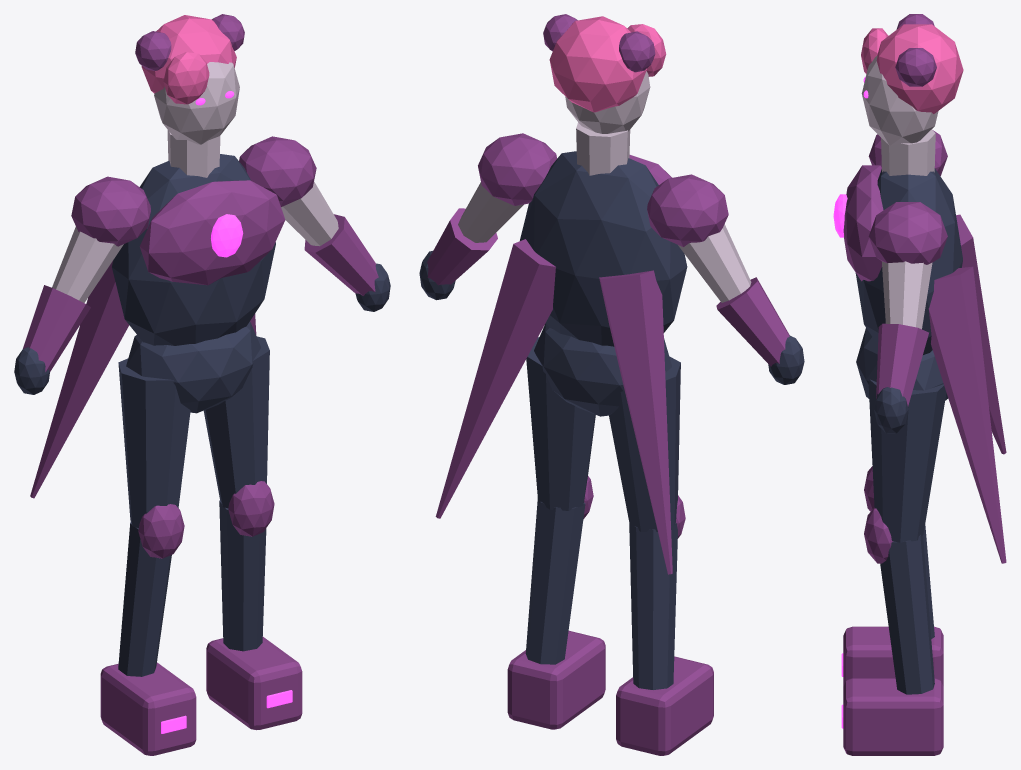
File: SM_Briar.fbx
3 views of the same model, side by side, from view 1: azimuth 30°, elevation 25°; view 2: azimuth 150°, elevation 25°; view 3: azimuth 270°, elevation 25° (orthographic). The views are drawn at different scales.
Visible parts, largest first — view 1: SM_Briar; view 2: SM_Briar; view 3: SM_Briar.
Part boxes in pixels (box(x1,y1,x2,y2)): SM_Briar: box(14, 14, 390, 755); SM_Briar: box(419, 14, 804, 755); SM_Briar: box(833, 14, 1006, 755).
Size of the model in its own units: 98.18 by 39.76 by 176.
